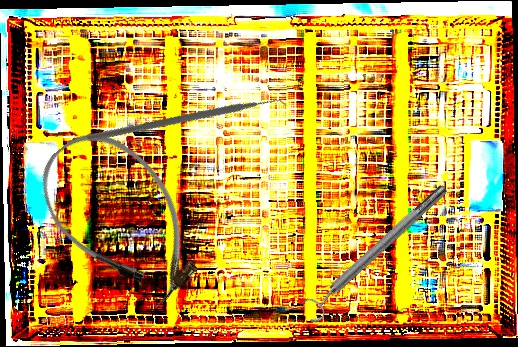Cannula: (20, 111, 222, 325)
Chopper: (85, 22, 293, 226)
Fixation Ring: (295, 177, 456, 327)
